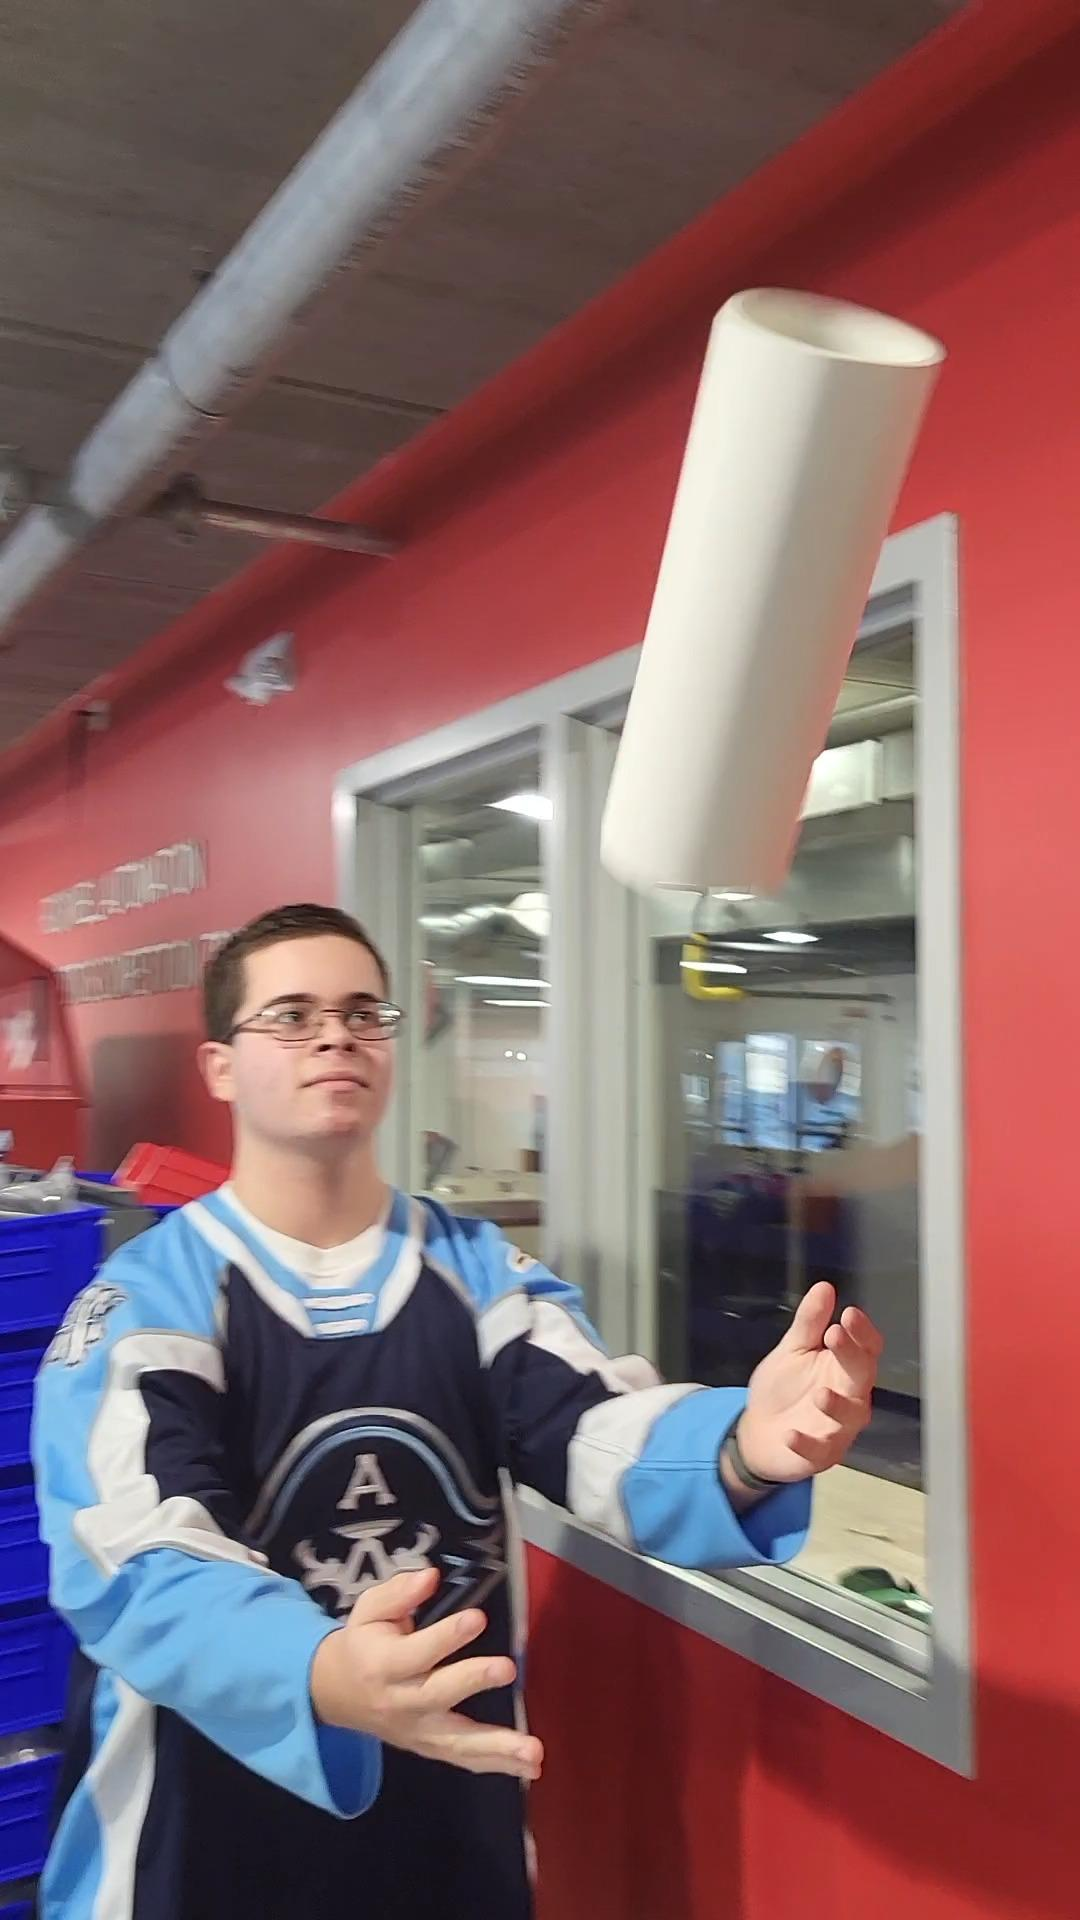coral: (600, 281, 960, 897)
